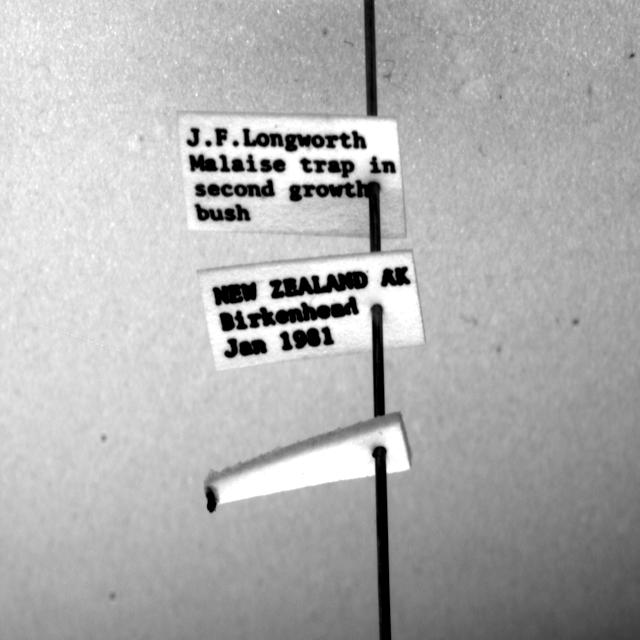typed_label: (178, 112, 405, 238), (198, 251, 425, 369)
